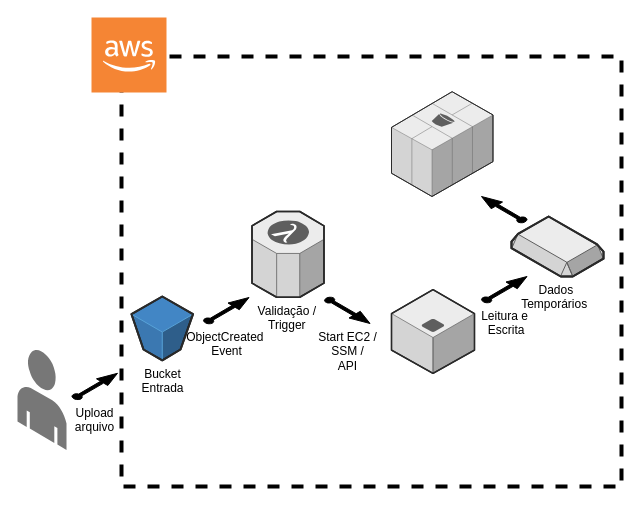
Some shapes in this 640 by 506 pixel diagram are drawn without their labels. Here are the shapes that lost their labels. From the top down, the centre of each, then its label:
the point at 441,143: Bucket Processado
the point at 432,331: Processamento ETL
the point at 41,399: Usuário
